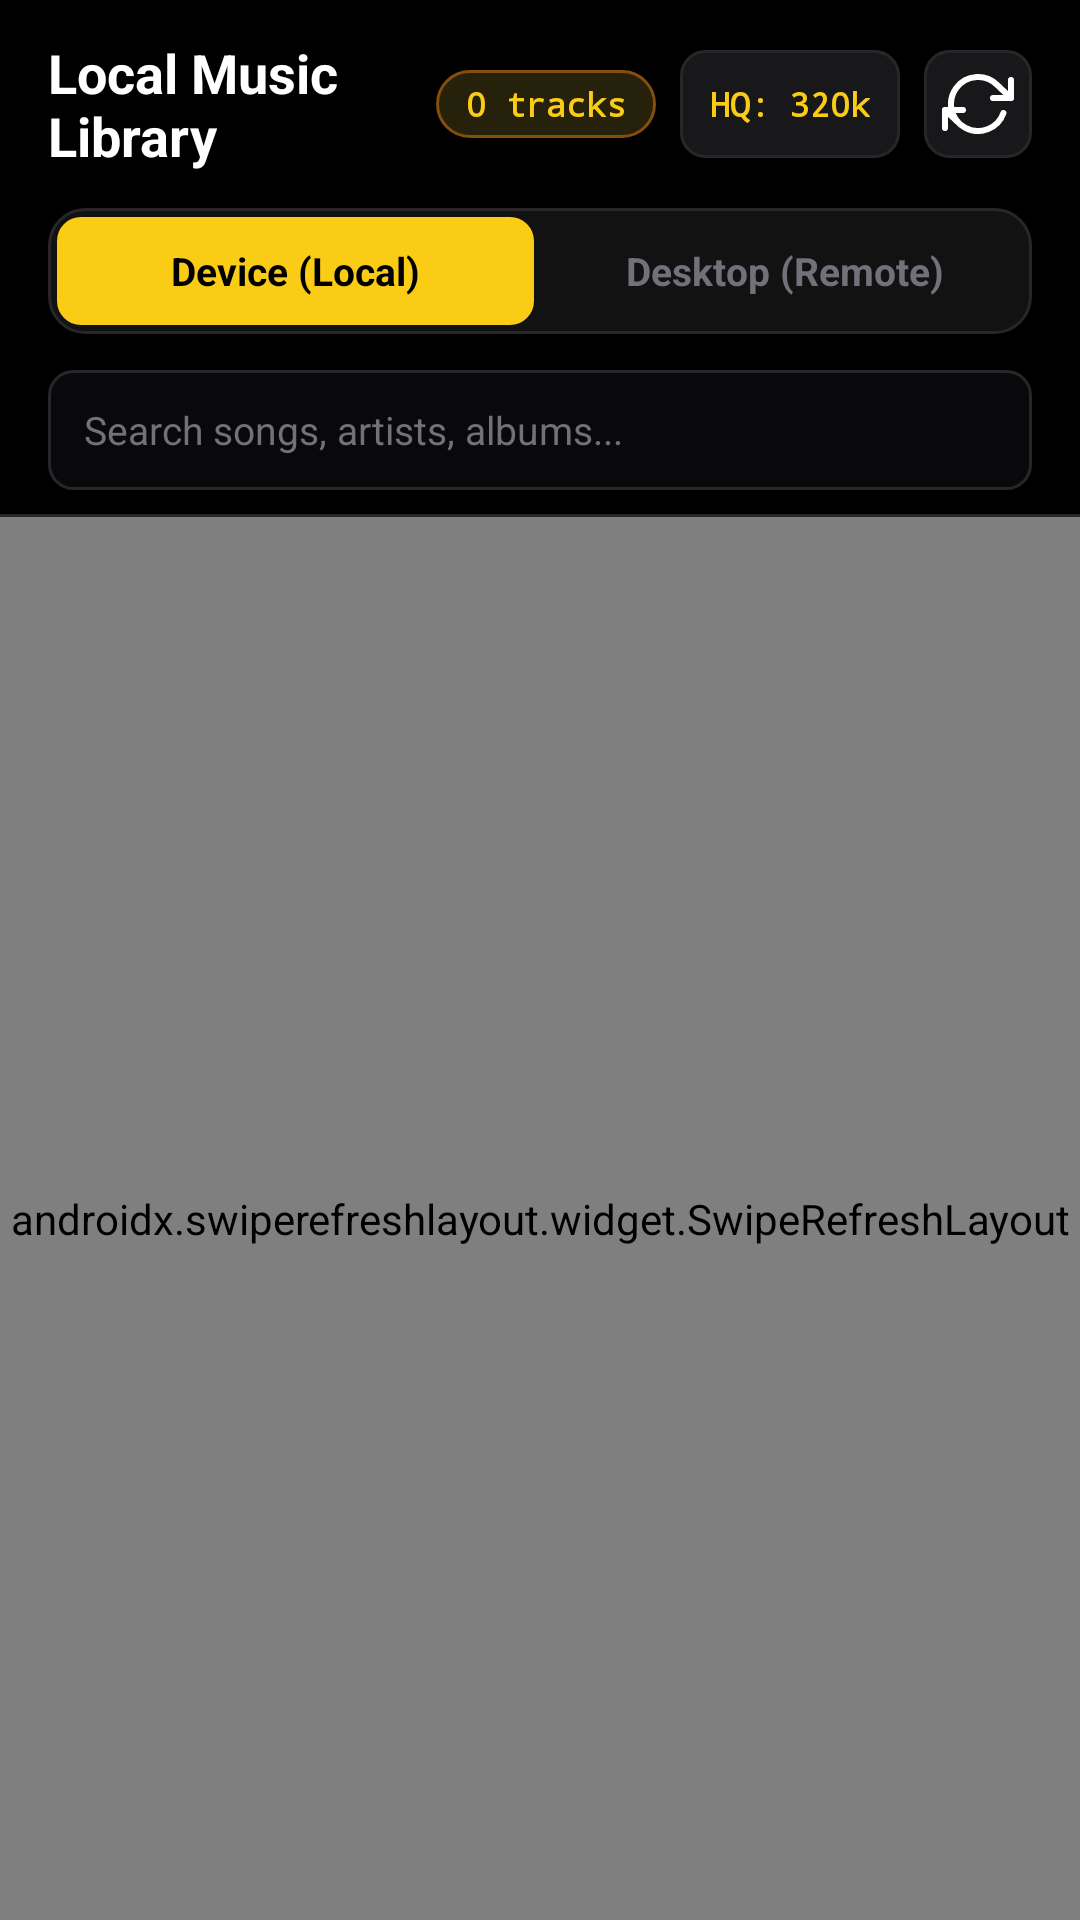

Icon bounding boxes for this 1080 × 1920 phone screenshot, format (x1, y1, x2, y2):
Refresh: (924, 50, 1032, 158)
